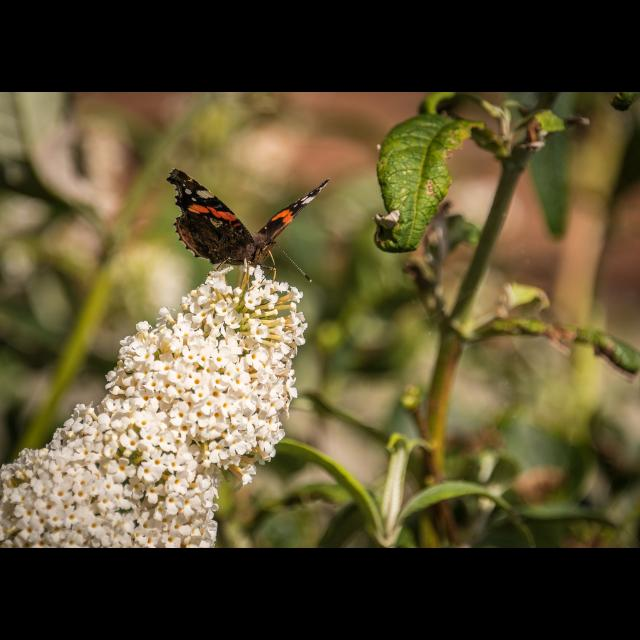Flower: (31, 255, 307, 542)
